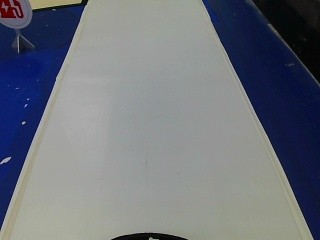battery: (0, 0, 33, 29)
